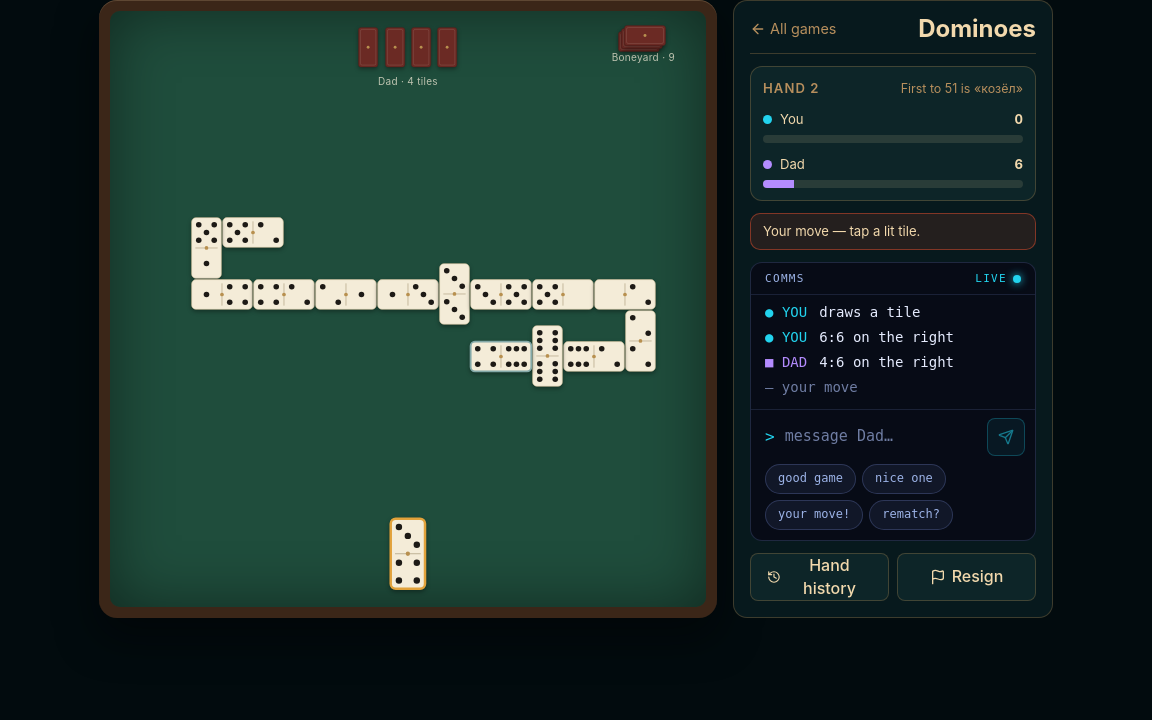
Test case: online Dominoes › sums up a hand that ends while the page is open, not the ones before it
(page scrolled)
Expected: the element named "Dominoes table" is shown, [99,0,717,618]
Step 1. Click the button named "3:4, fits" → (408, 553), box [390,518,426,589]
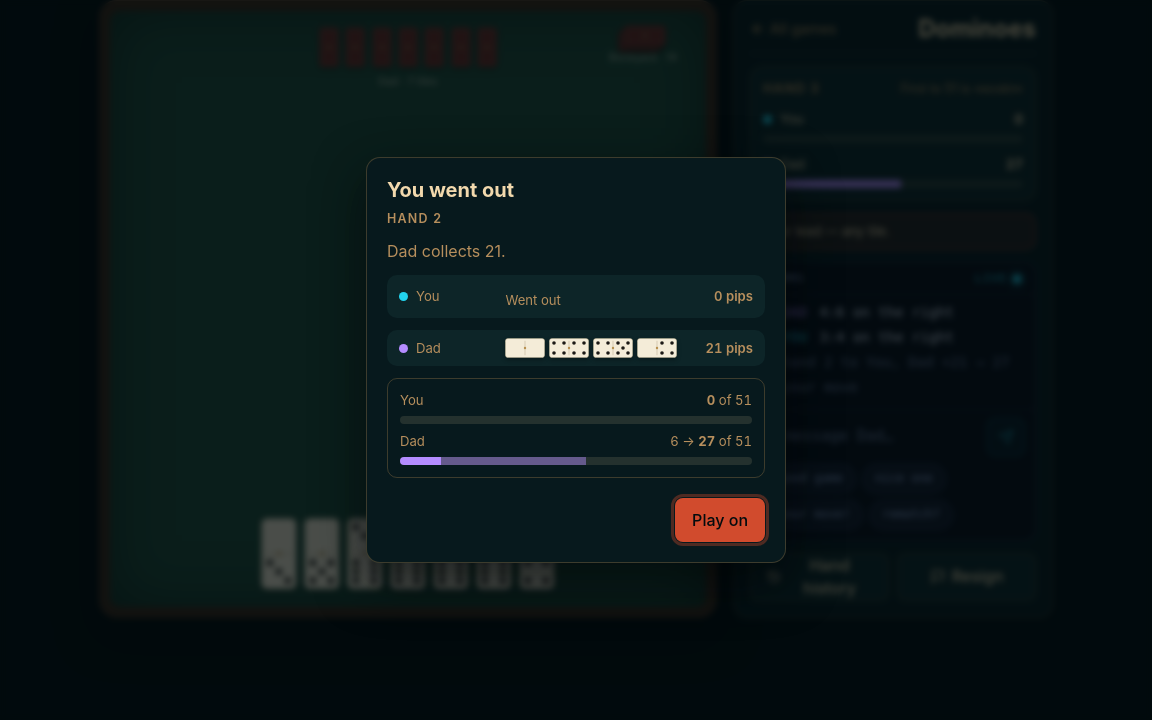
Result: the text "Dad collects 21." is shown at [387,241,506,261]
Step 2. Click the button "Play on" → (720, 520), box [675,498,765,542]
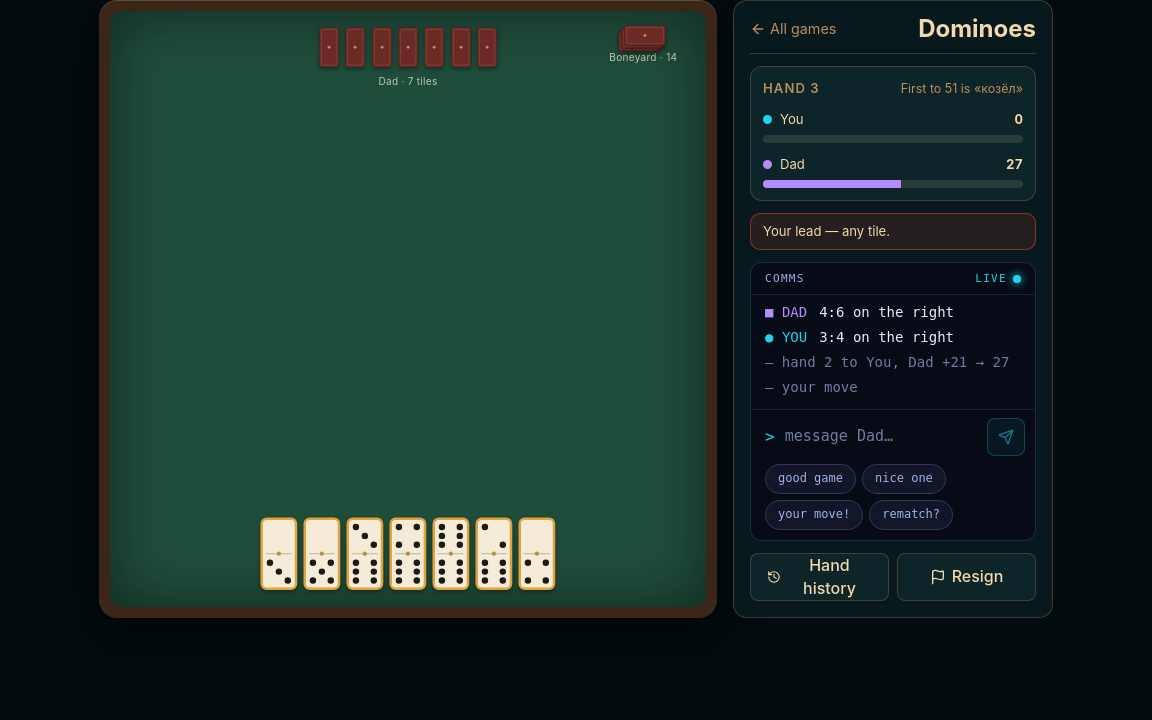
Result: the dialog is gone
